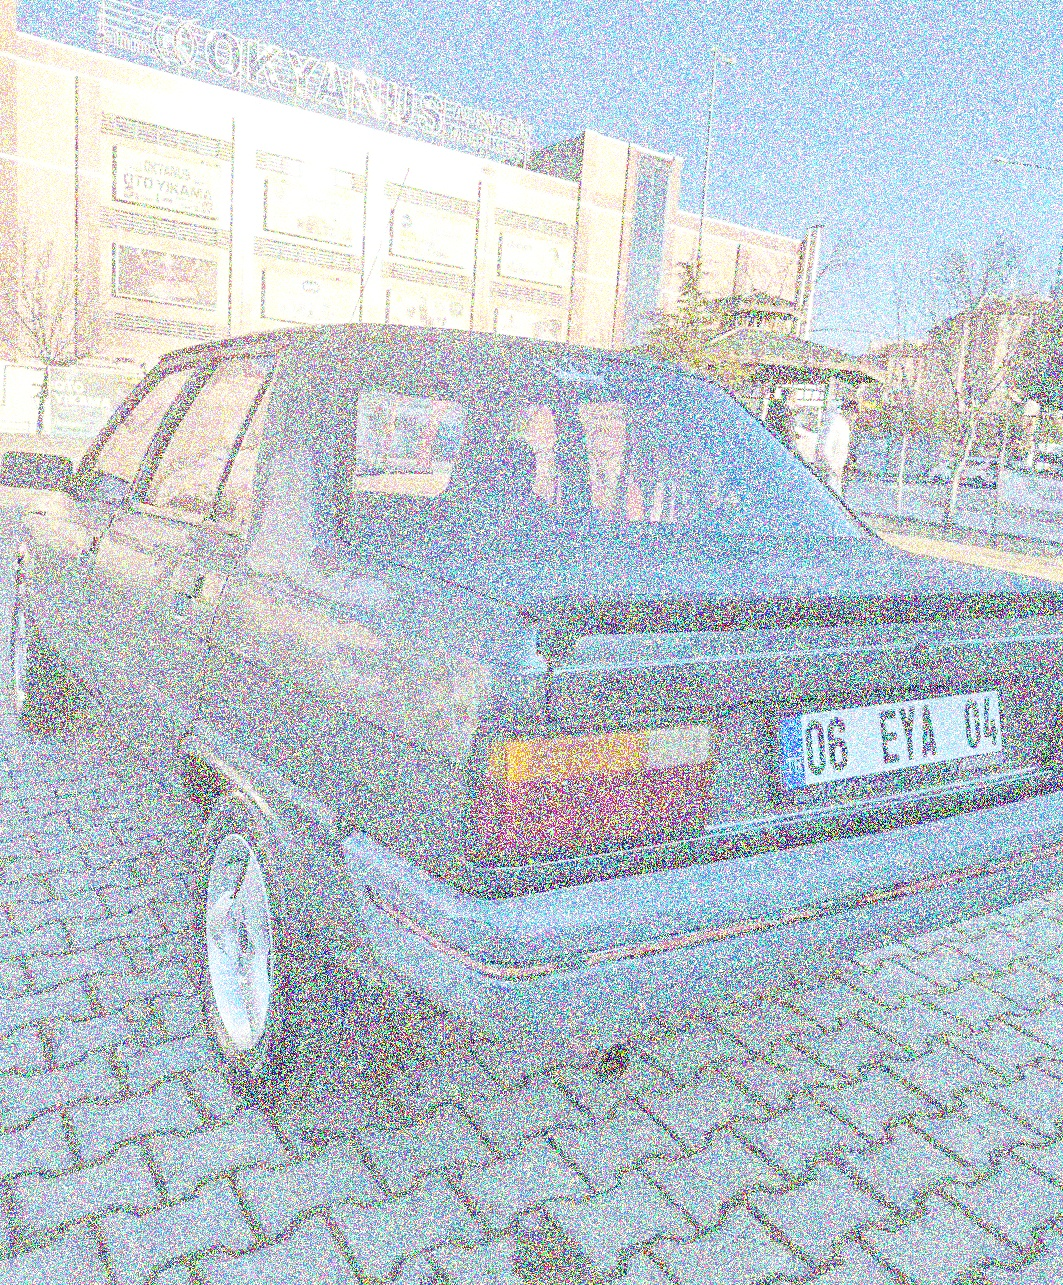plaka: (800, 693, 1016, 795)
